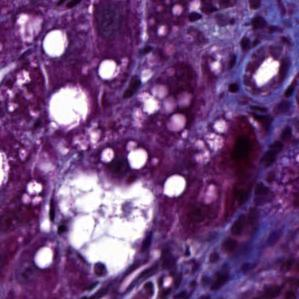ballooning: (52, 141, 160, 284)
